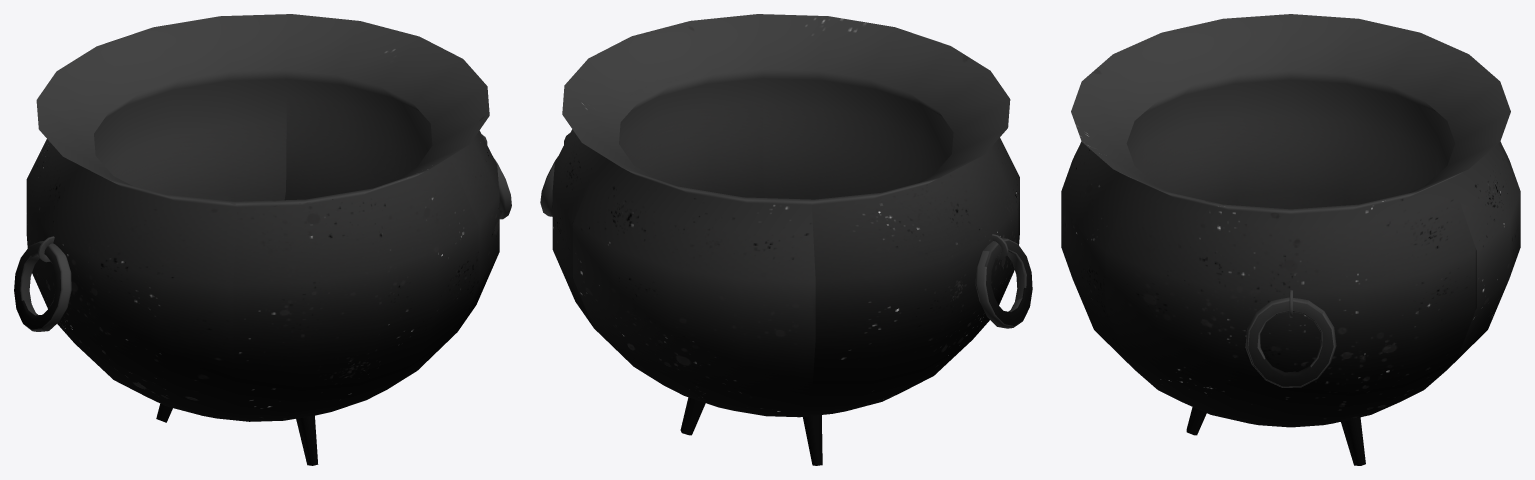
File: Cauldron.fbx
The picture shows the model from 3 angles, left to right: view 1: azimuth 30°, elevation 25°; view 2: azimuth 150°, elevation 25°; view 3: azimuth 270°, elevation 25°; orthographic projection.
Visible parts, largest first — view 1: pSphere1, pTorus3, pCylinder3, pTorus4; view 2: pSphere1, pTorus3, pCylinder4, pCylinder5, pTorus4; view 3: pSphere1, pTorus4, pCylinder5.
Boxes of the visible parts, x1,y1,x2,y2 form: pSphere1: [26, 14, 499, 421]; pTorus3: [14, 236, 71, 331]; pCylinder3: [296, 415, 318, 465]; pTorus4: [482, 134, 511, 219]; pSphere1: [552, 14, 1019, 417]; pTorus3: [975, 234, 1032, 328]; pCylinder4: [803, 415, 822, 465]; pCylinder5: [680, 397, 705, 435]; pTorus4: [540, 133, 569, 216]; pSphere1: [1061, 14, 1520, 427]; pTorus4: [1245, 290, 1336, 387]; pCylinder5: [1341, 417, 1365, 465].
Size of the model in its own units: 5.36 by 3.5 by 4.52.
1 material, 1 textured.
